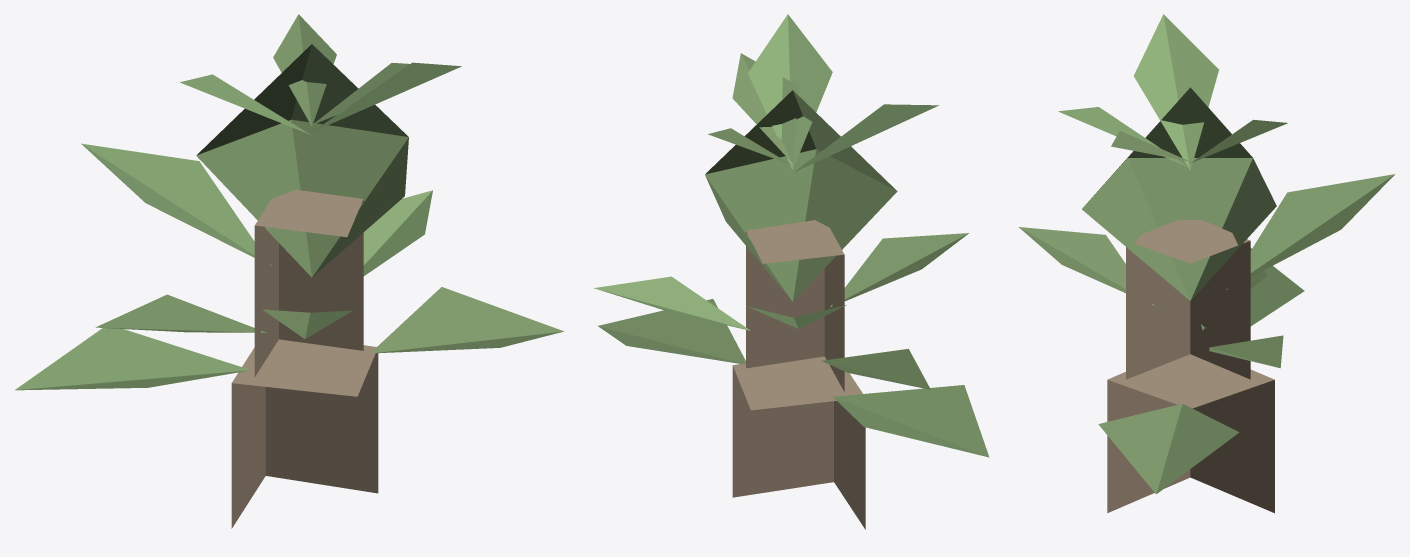
The model's file is cao.jue@seedling__bloom.glb.
3 renders of one model, left to right at view 1: azimuth 30°, elevation 25°; view 2: azimuth 150°, elevation 25°; view 3: azimuth 270°, elevation 25°, orthographic. The views are drawn at different scales.
Parts seen in each view (by area): view 1: cao.jue@seedling__bloom; view 2: cao.jue@seedling__bloom; view 3: cao.jue@seedling__bloom.
Part boxes in pixels (x1,y1,x2,y2): cao.jue@seedling__bloom: (15,14,564,528); cao.jue@seedling__bloom: (594,14,989,529); cao.jue@seedling__bloom: (1019,14,1394,513).
Bounding box in the file's own units: 0.1044 × 0.097 × 0.0759.
